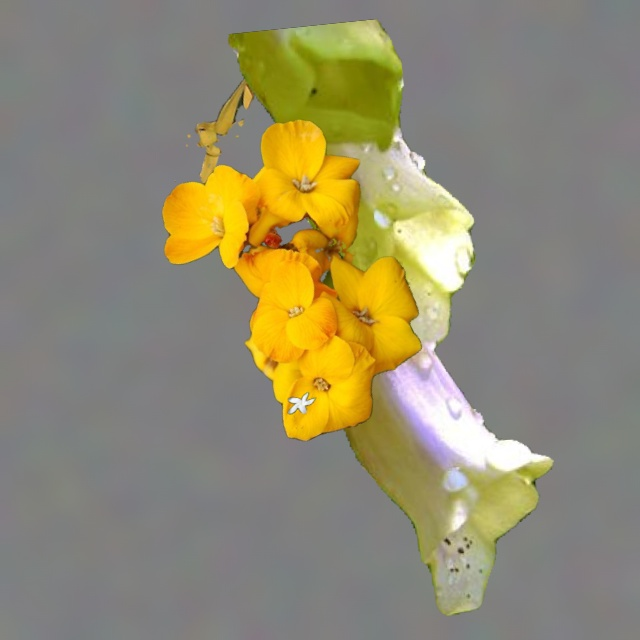foxglove: (228, 19, 553, 615)
jasmine: (288, 392, 315, 413)
wallflower: (162, 119, 421, 440)
ylang-ylang: (175, 69, 256, 186)
